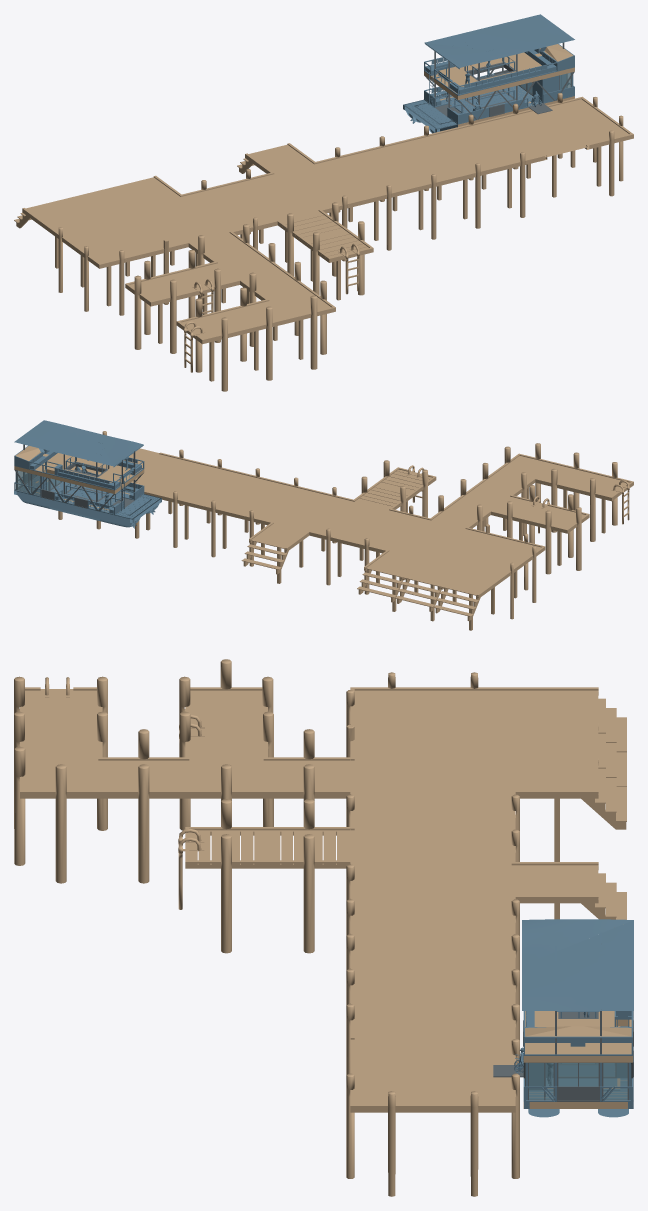
The model's file is wheels-on-water.glb.
3 views of the same model, one above another, from view 1: azimuth 30°, elevation 25°; view 2: azimuth 150°, elevation 25°; view 3: azimuth 270°, elevation 25° (orthographic). The views are drawn at different scales.
Visible parts, largest first — view 1: project:Timber, project:Hull, project:Metal; view 2: project:Timber, project:Hull, project:Metal, project:Glazing; view 3: project:Timber, project:Hull, project:Glazing, project:Metal.
Part boxes in pixels (left/top/right/bottom): project:Timber: left=14, top=44, right=633, bottom=391; project:Hull: left=403, top=14, right=574, bottom=133; project:Metal: left=424, top=42, right=574, bottom=119; project:Timber: left=14, top=431, right=633, bottom=630; project:Hull: left=14, top=420, right=161, bottom=528; project:Metal: left=14, top=444, right=143, bottom=511; project:Glazing: left=17, top=470, right=60, bottom=495; project:Timber: left=14, top=659, right=632, bottom=1196; project:Hull: left=514, top=919, right=633, bottom=1117; project:Glazing: left=529, top=1063, right=627, bottom=1099; project:Metal: left=493, top=1009, right=633, bottom=1101.
Bounding box in the file's own units: 55.41 × 11.04 × 34.31.
